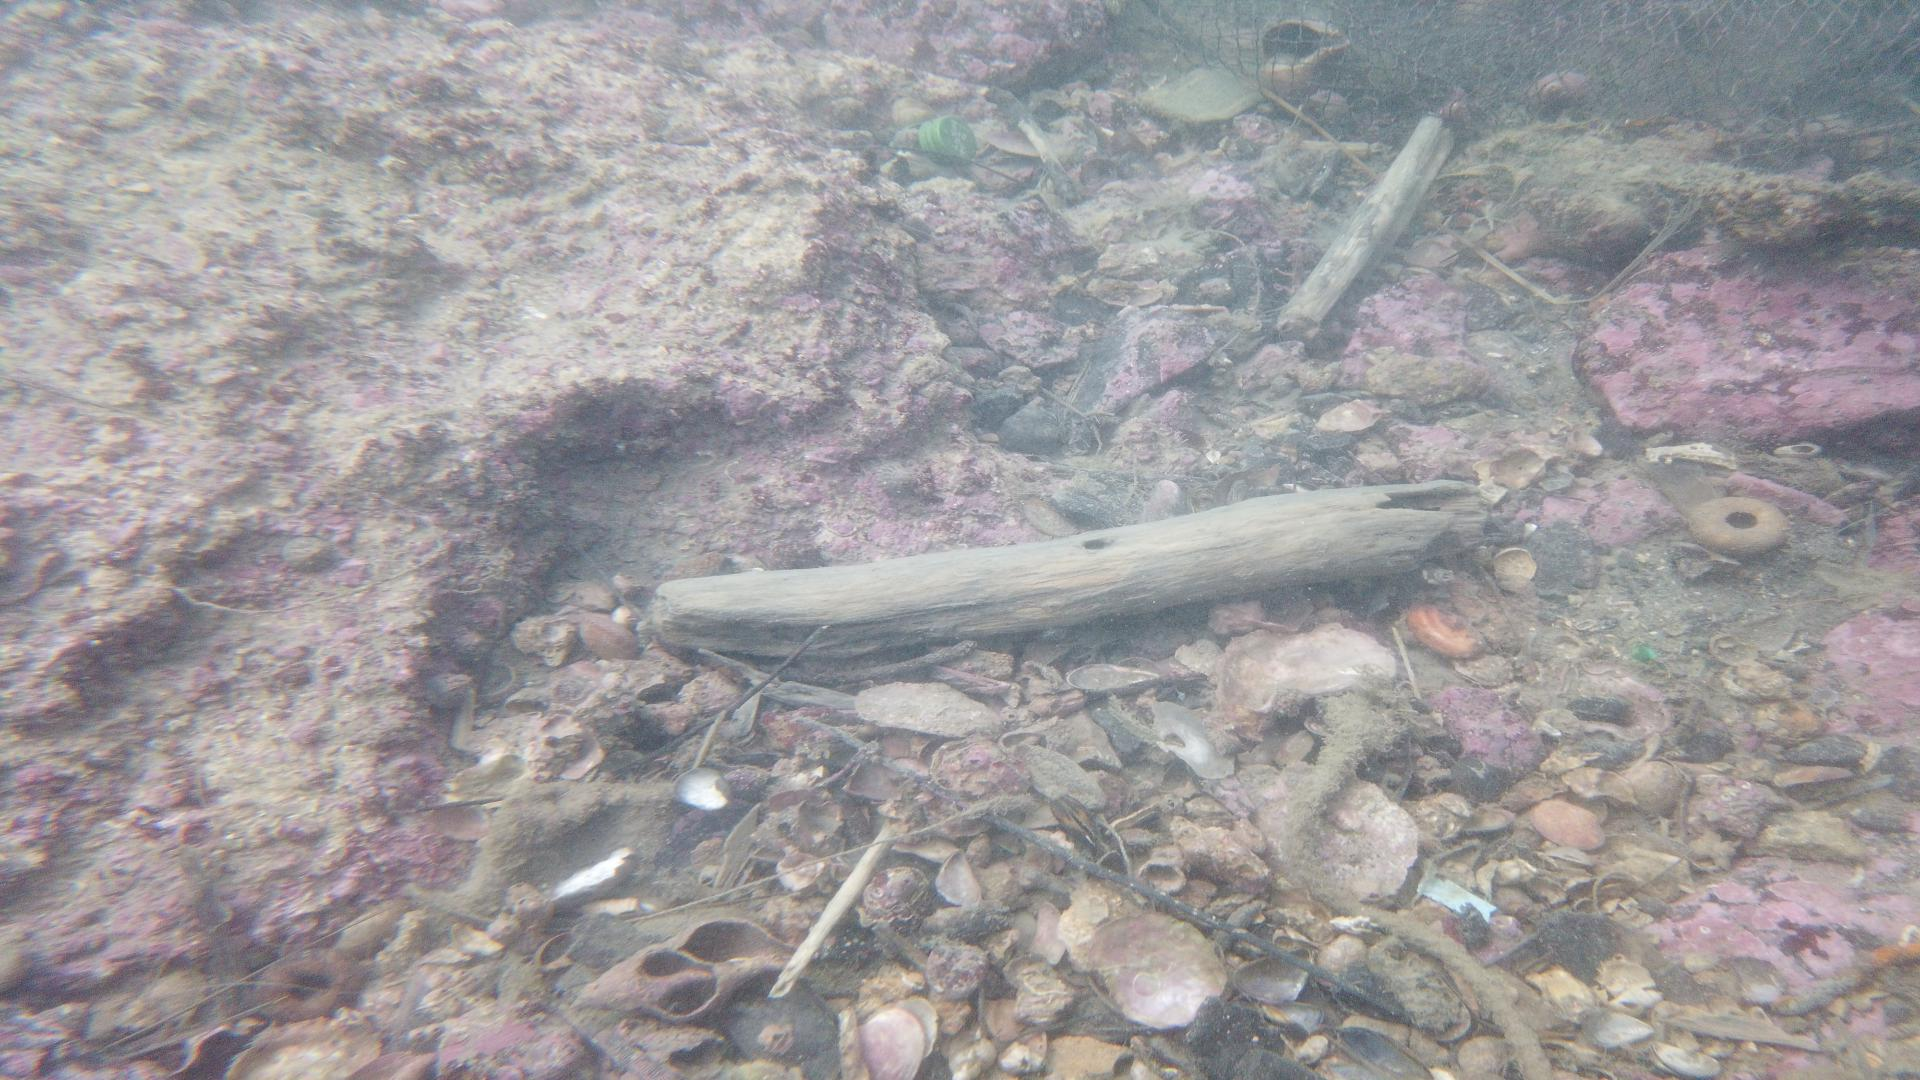fish net: (1154, 0, 1920, 131)
rope: (1278, 735, 1557, 1080)
wood: (649, 477, 1484, 659), (1273, 112, 1456, 342)
